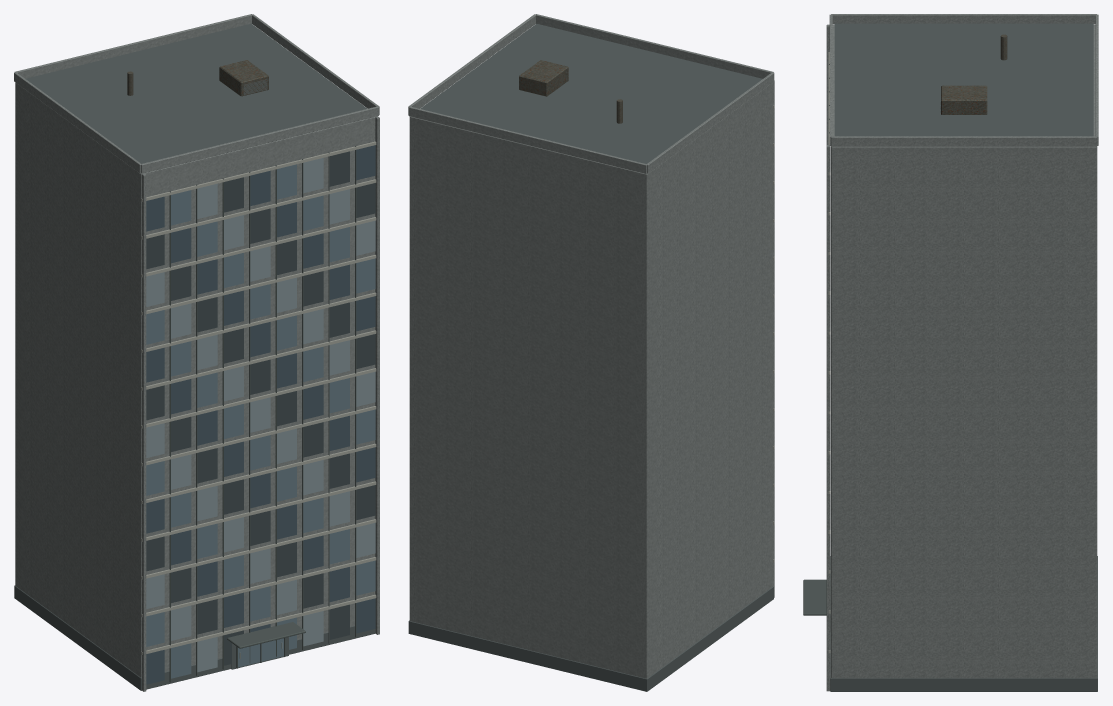
File: office.glb
3 views of the same model, side by side, from view 1: azimuth 30°, elevation 25°; view 2: azimuth 150°, elevation 25°; view 3: azimuth 270°, elevation 25° (orthographic). The views are drawn at different scales.
Visible parts, largest first — view 1: office / Aged concrete, office / Recess shadow and roofing, office / Glass 1, office / Glass 2, office / Glass 0, office / Glass 3, office / Muted stone trim, office / Ironwork, office / Weathered industrial steel; view 2: office / Aged concrete, office / Recess shadow and roofing, office / Weathered industrial steel; view 3: office / Aged concrete, office / Recess shadow and roofing, office / Weathered industrial steel, office / Ironwork.
Boxes of the visible parts, x1,y1,x2,y2 form: office / Aged concrete: (14, 14, 379, 691); office / Recess shadow and roofing: (14, 24, 375, 690); office / Glass 1: (146, 164, 375, 678); office / Glass 2: (146, 158, 375, 672); office / Glass 0: (146, 145, 375, 684); office / Glass 3: (146, 151, 375, 665); office / Muted stone trim: (141, 141, 376, 658); office / Ironwork: (169, 146, 356, 682); office / Weathered industrial steel: (127, 60, 268, 96); office / Aged concrete: (408, 14, 774, 678); office / Recess shadow and roofing: (408, 24, 773, 691); office / Weathered industrial steel: (519, 60, 622, 123); office / Aged concrete: (826, 14, 1098, 691); office / Recess shadow and roofing: (830, 23, 1097, 691); office / Weathered industrial steel: (941, 34, 1007, 114); office / Ironwork: (803, 64, 830, 615).
Size of the model in its own units: 25.25 by 54.45 by 25.52.
Materials: 9 (2 with a texture image).
